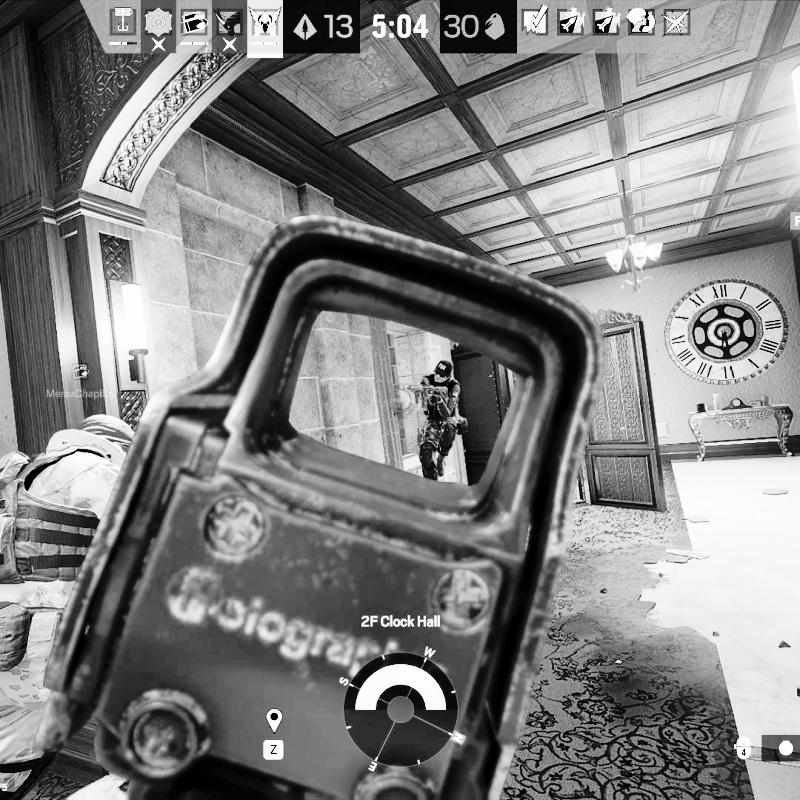Character: (0, 411, 139, 800), (403, 358, 470, 484)
Friend_label: (44, 362, 117, 401)
Head: (79, 415, 135, 449), (432, 359, 453, 381)
